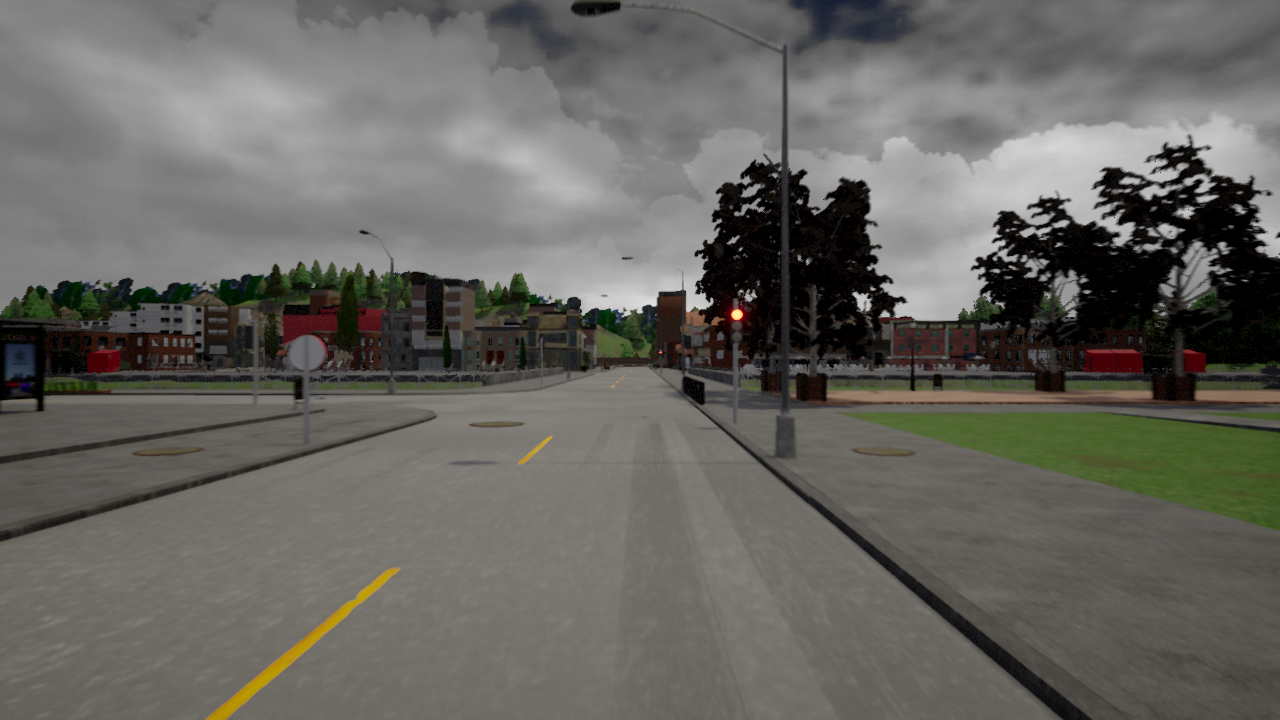red: (728, 307, 746, 345)
